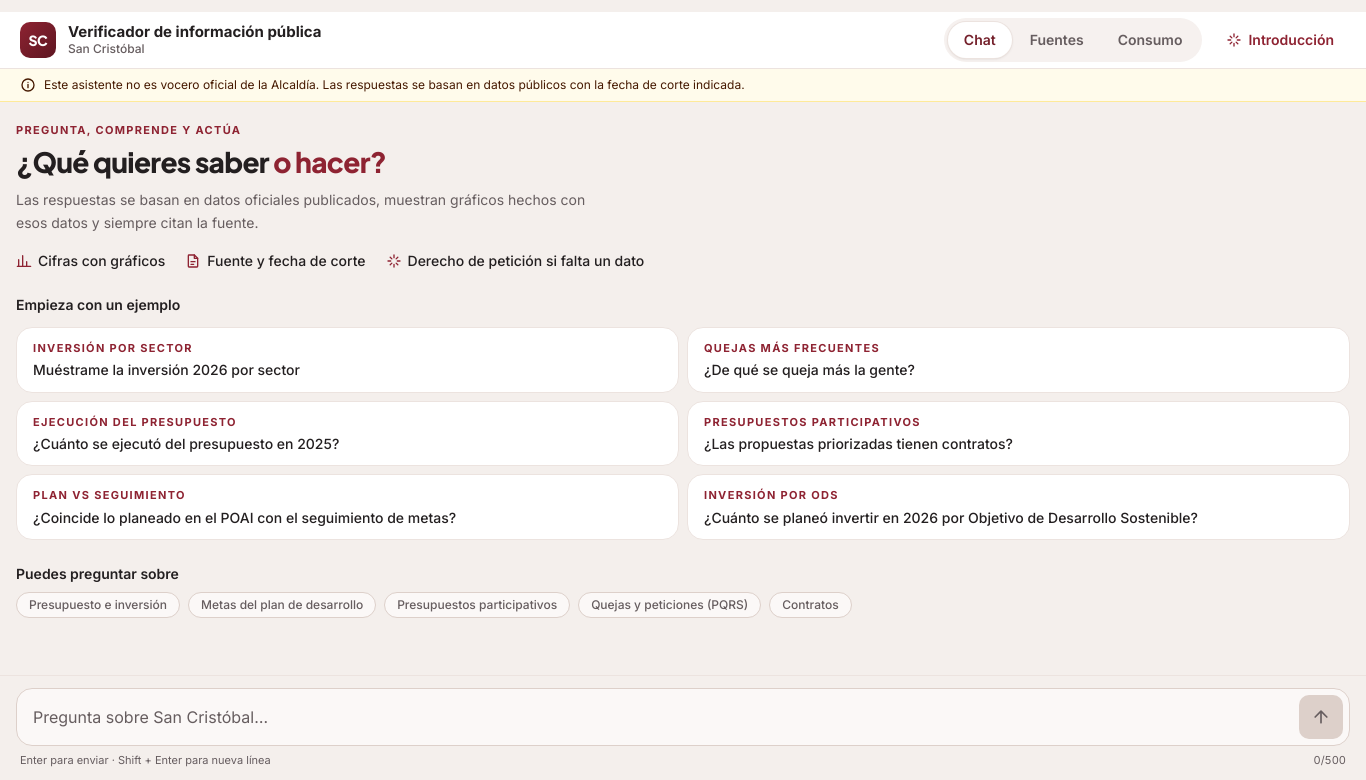
Scenario: Chat on narrow screens › renders the full answer inline under the question, without a side panel
The image size is (1366, 780).
In the text box named "Escribe tu pregunta": coordinates (662, 716) [33, 694, 1291, 738], type "¿Cuánto se ejecutó?"
Then press Enter
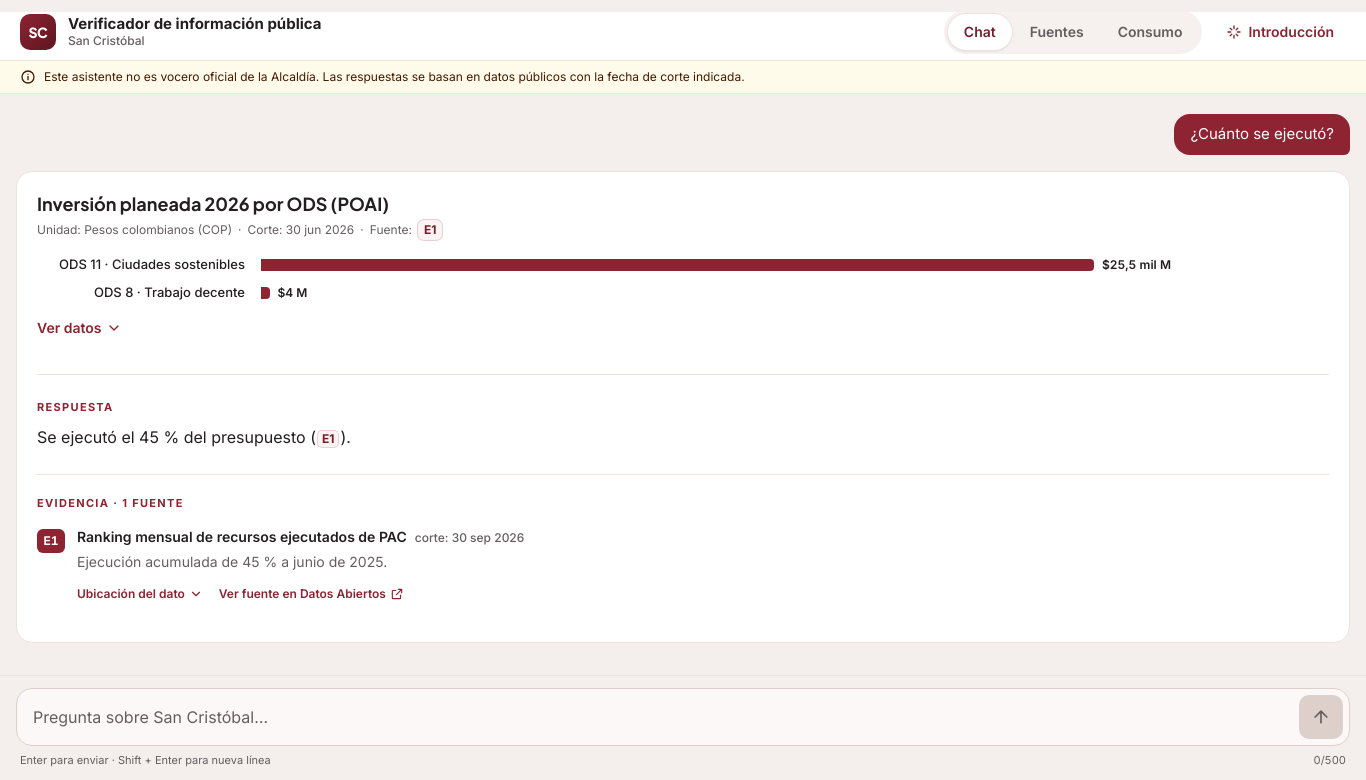
Now the element "Inversión planeada 2026 por ODS (POAI)" is shown, box [37, 192, 1329, 350]
Now the element "Ranking mensual de recursos ejecutados de PAC" is shown, box [37, 528, 524, 616]
